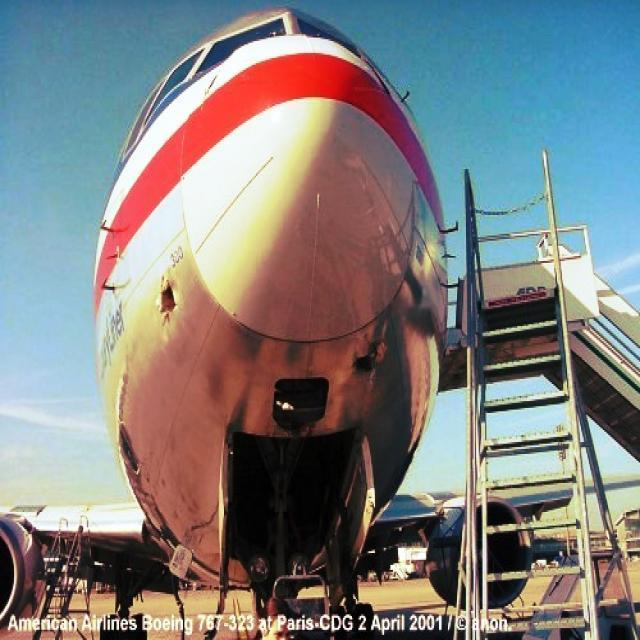dent: (356, 338, 391, 388), (157, 276, 187, 321)
